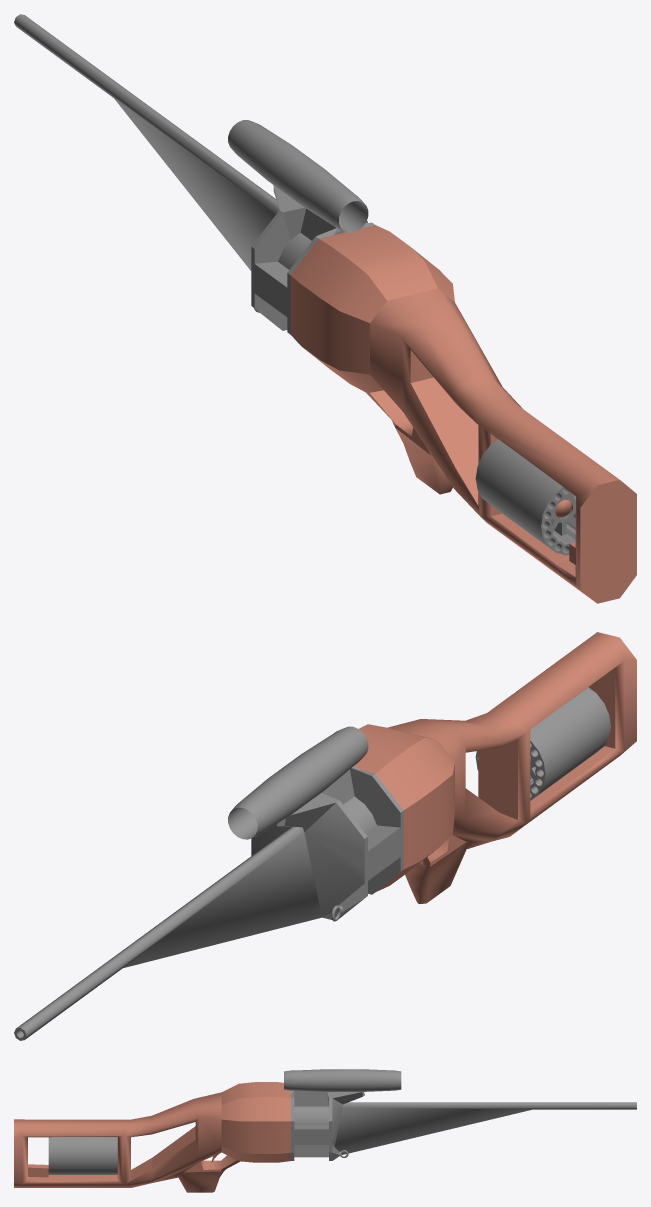
File: four-barreled shotgun.glb
3 views of the same model, one above another, from view 1: azimuth 30°, elevation 25°; view 2: azimuth 150°, elevation 25°; view 3: azimuth 270°, elevation 25° (orthographic). The views are drawn at different scales.
Parts seen in each view (by area): view 1: butt for barrel with cylinder, barrel with cylinder, Zcope, cylinder 20 backup2, cylinder 20 backup1; view 2: butt for barrel with cylinder, barrel with cylinder, Zcope, cylinder 20 backup1, cylinder 20 backup2, cylinder 20; view 3: butt for barrel with cylinder, barrel with cylinder, Zcope, cylinder 20 backup2, cylinder 20 backup1, cylinder 20.
Part boxes in pixels (x1,y1,x2,y2): butt for barrel with cylinder: (290, 225, 636, 603); barrel with cylinder: (14, 14, 374, 334); Zcope: (228, 120, 368, 232); cylinder 20 backup2: (508, 463, 575, 555); cylinder 20 backup1: (475, 439, 530, 526); butt for barrel with cylinder: (354, 632, 636, 903); barrel with cylinder: (14, 766, 403, 1040); Zcope: (228, 726, 368, 839); cylinder 20 backup1: (475, 711, 578, 800); cylinder 20 backup2: (556, 687, 610, 775); cylinder 20: (343, 796, 376, 833); butt for barrel with cylinder: (14, 1082, 290, 1192); barrel with cylinder: (291, 1090, 636, 1160); Zcope: (284, 1069, 401, 1091); cylinder 20 backup2: (48, 1137, 83, 1174); cylinder 20 backup1: (83, 1137, 117, 1174); cylinder 20: (294, 1106, 328, 1124).
Bounding box in the file's own units: 0.3663 × 0.6769 × 3.15.
